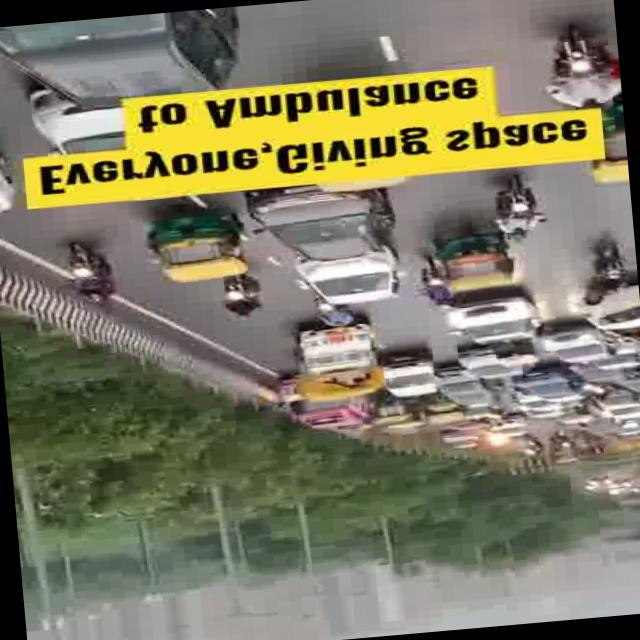ambulance: (283, 394, 372, 432)
